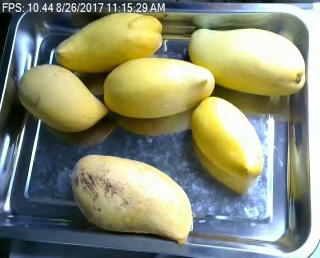Mango: (73, 156, 191, 241), (189, 26, 304, 96), (103, 60, 213, 119), (14, 65, 106, 133), (54, 12, 162, 68), (193, 95, 265, 177)
